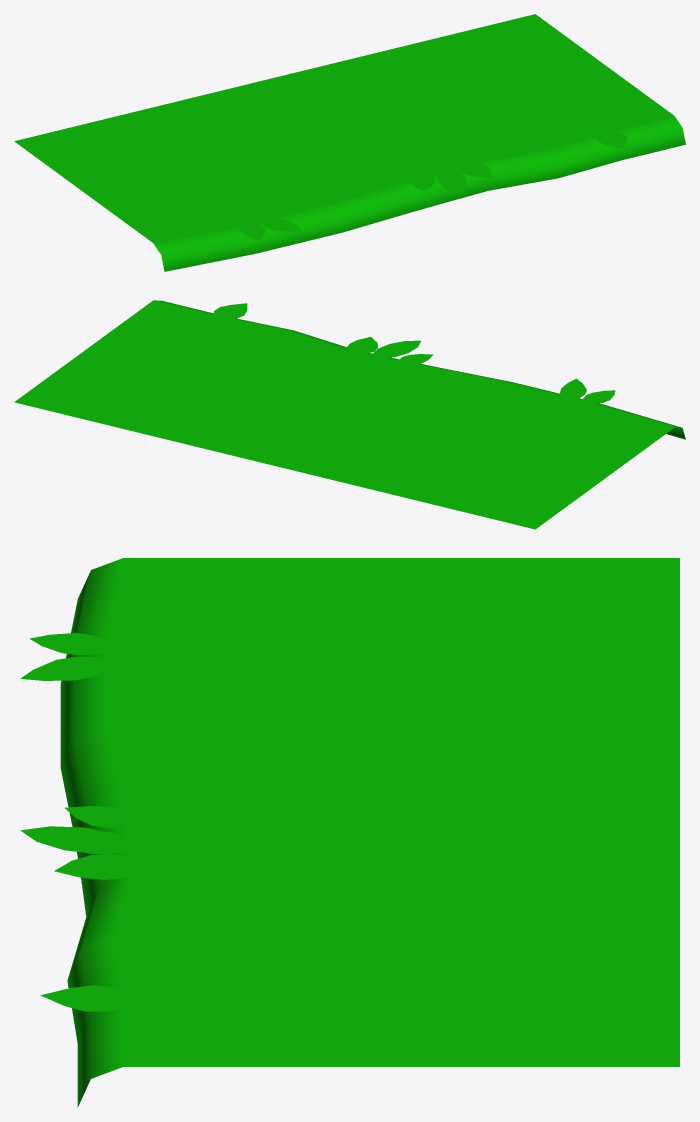
3 renders of one model, top to bottom at view 1: azimuth 30°, elevation 25°; view 2: azimuth 150°, elevation 25°; view 3: azimuth 270°, elevation 25°, orthographic. The views are drawn at different scales.
Parts seen in each view (by area): view 1: Plane.004; view 2: Plane.004; view 3: Plane.004.
Boxes of the visible parts, left/top/right/bottom form: Plane.004: left=14, top=14, right=685, bottom=271; Plane.004: left=14, top=300, right=685, bottom=529; Plane.004: left=20, top=558, right=679, bottom=1107.
Size of the model in its own units: 4 by 0.15 by 2.19.
